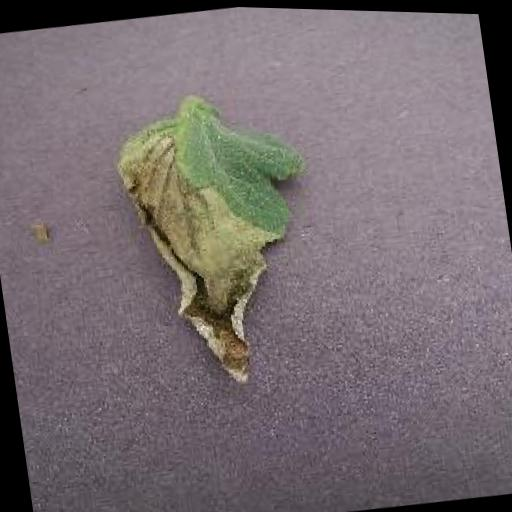Late Blight: (108, 91, 335, 400)
